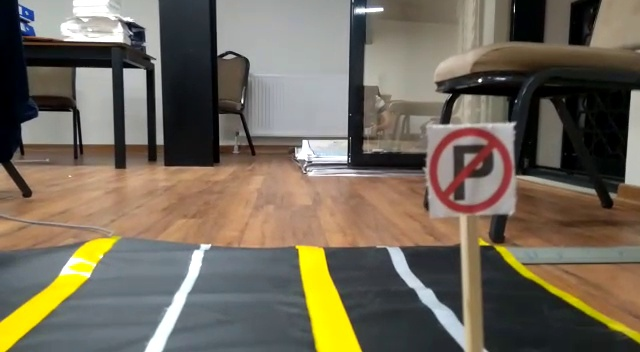park_yapilmaz: (423, 123, 514, 212)
